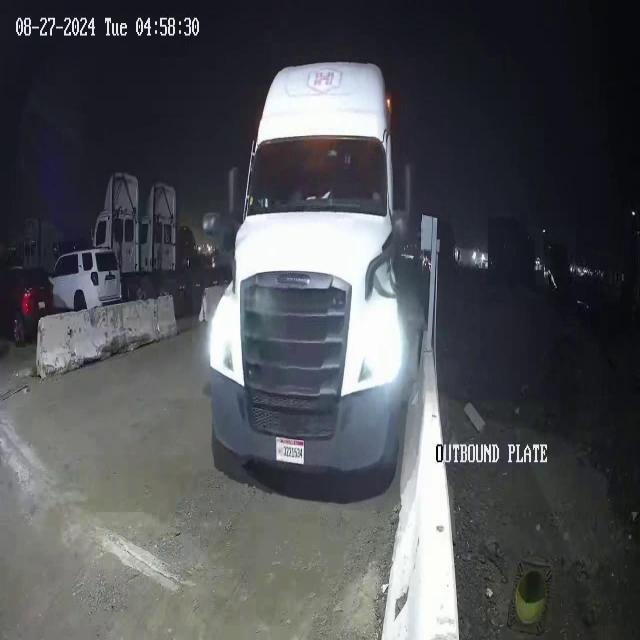TRUCK_OUT: (203, 59, 429, 495)
